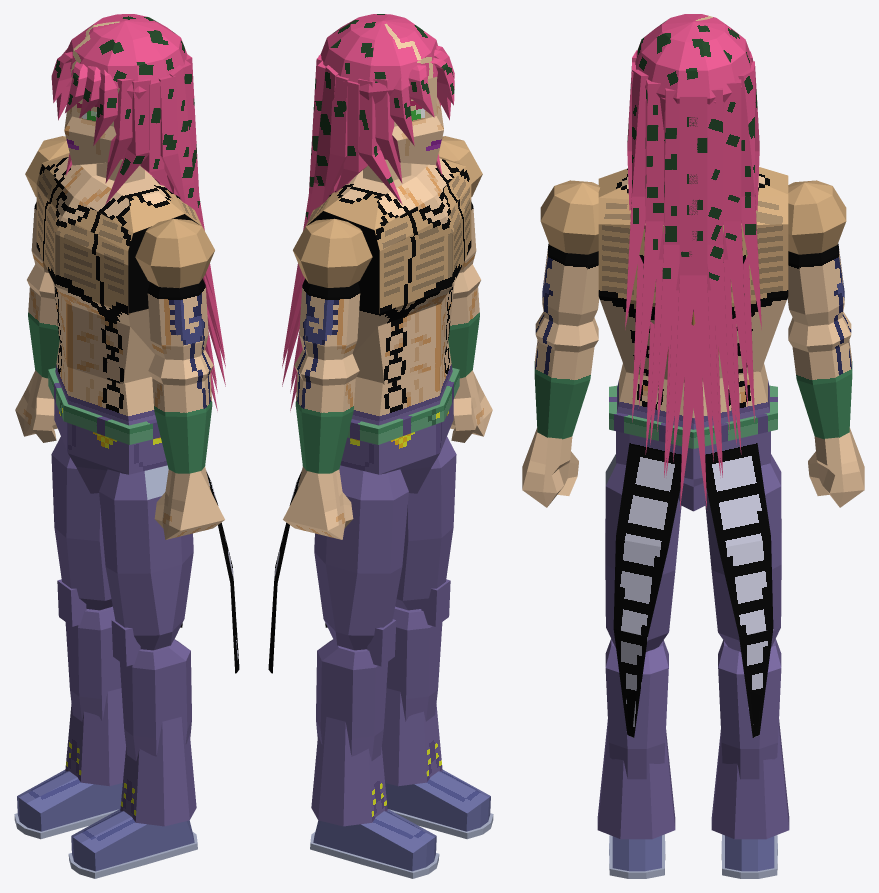
Rendered from Diavolo.glb.
The picture shows the model from 3 angles, left to right: view 1: azimuth 30°, elevation 25°; view 2: azimuth 150°, elevation 25°; view 3: azimuth 270°, elevation 25°; orthographic projection. The views are drawn at different scales.
Visible parts, largest first — view 1: Torso, Cabeça, Perna Baixo E, Perna Cima E, Pélvis, Perna Baixo D, Braço Cima E, Perna Cima D, Braço Baixo E, Pé E, Pé D, Mão E (+3 smaller); view 2: Torso, Cabeça, Perna Baixo D, Perna Cima D, Pélvis, Perna Baixo E, Braço Cima D, Perna Cima E, Braço Baixo D, Pé D, Pé E, Mão D (+3 smaller); view 3: Cabeça, Pélvis, Torso, Perna Baixo E, Perna Baixo D, Braço Cima E, Braço Cima D, Braço Baixo E, Braço Baixo D, Perna Cima D, Perna Cima E, Mão E (+3 smaller).
Boxes of the visible parts, box(x1,y1,x2,y2) form: Torso: box(36, 153, 201, 384); Cabeça: box(51, 14, 225, 410); Perna Baixo E: box(111, 619, 196, 826); Perna Cima E: box(99, 465, 193, 650); Pélvis: box(48, 340, 239, 673); Perna Baixo D: box(57, 579, 125, 786); Braço Cima E: box(135, 218, 214, 360); Perna Cima D: box(51, 437, 112, 610); Braço Baixo E: box(148, 350, 213, 473); Pé E: box(68, 809, 197, 878); Pé D: box(14, 770, 122, 839); Mão E: box(154, 466, 224, 539); Torso: box(306, 156, 471, 384); Cabeça: box(282, 14, 454, 410); Perna Baixo D: box(311, 619, 396, 826); Perna Cima D: box(314, 465, 408, 650); Pélvis: box(268, 340, 459, 673); Perna Baixo E: box(382, 579, 450, 786); Braço Cima D: box(293, 218, 372, 360); Perna Cima E: box(395, 437, 456, 610); Braço Baixo D: box(294, 350, 359, 473); Pé D: box(310, 809, 439, 878); Pé E: box(385, 770, 493, 839); Mão D: box(283, 466, 353, 539); Cabeça: box(625, 14, 761, 510); Pélvis: box(609, 363, 777, 737); Torso: box(598, 167, 788, 382); Perna Baixo E: box(597, 639, 675, 839); Perna Baixo D: box(711, 639, 789, 839); Braço Cima E: box(540, 180, 599, 326); Braço Cima D: box(787, 180, 846, 326); Braço Baixo E: box(534, 312, 598, 439); Braço Baixo D: box(788, 312, 852, 439); Perna Cima D: box(705, 454, 781, 652); Perna Cima E: box(605, 454, 681, 652); Mão E: box(522, 427, 578, 507).
Bounding box in the file's own units: 2.26 × 10.44 × 3.85.
Materials: 5 (5 with a texture image).
